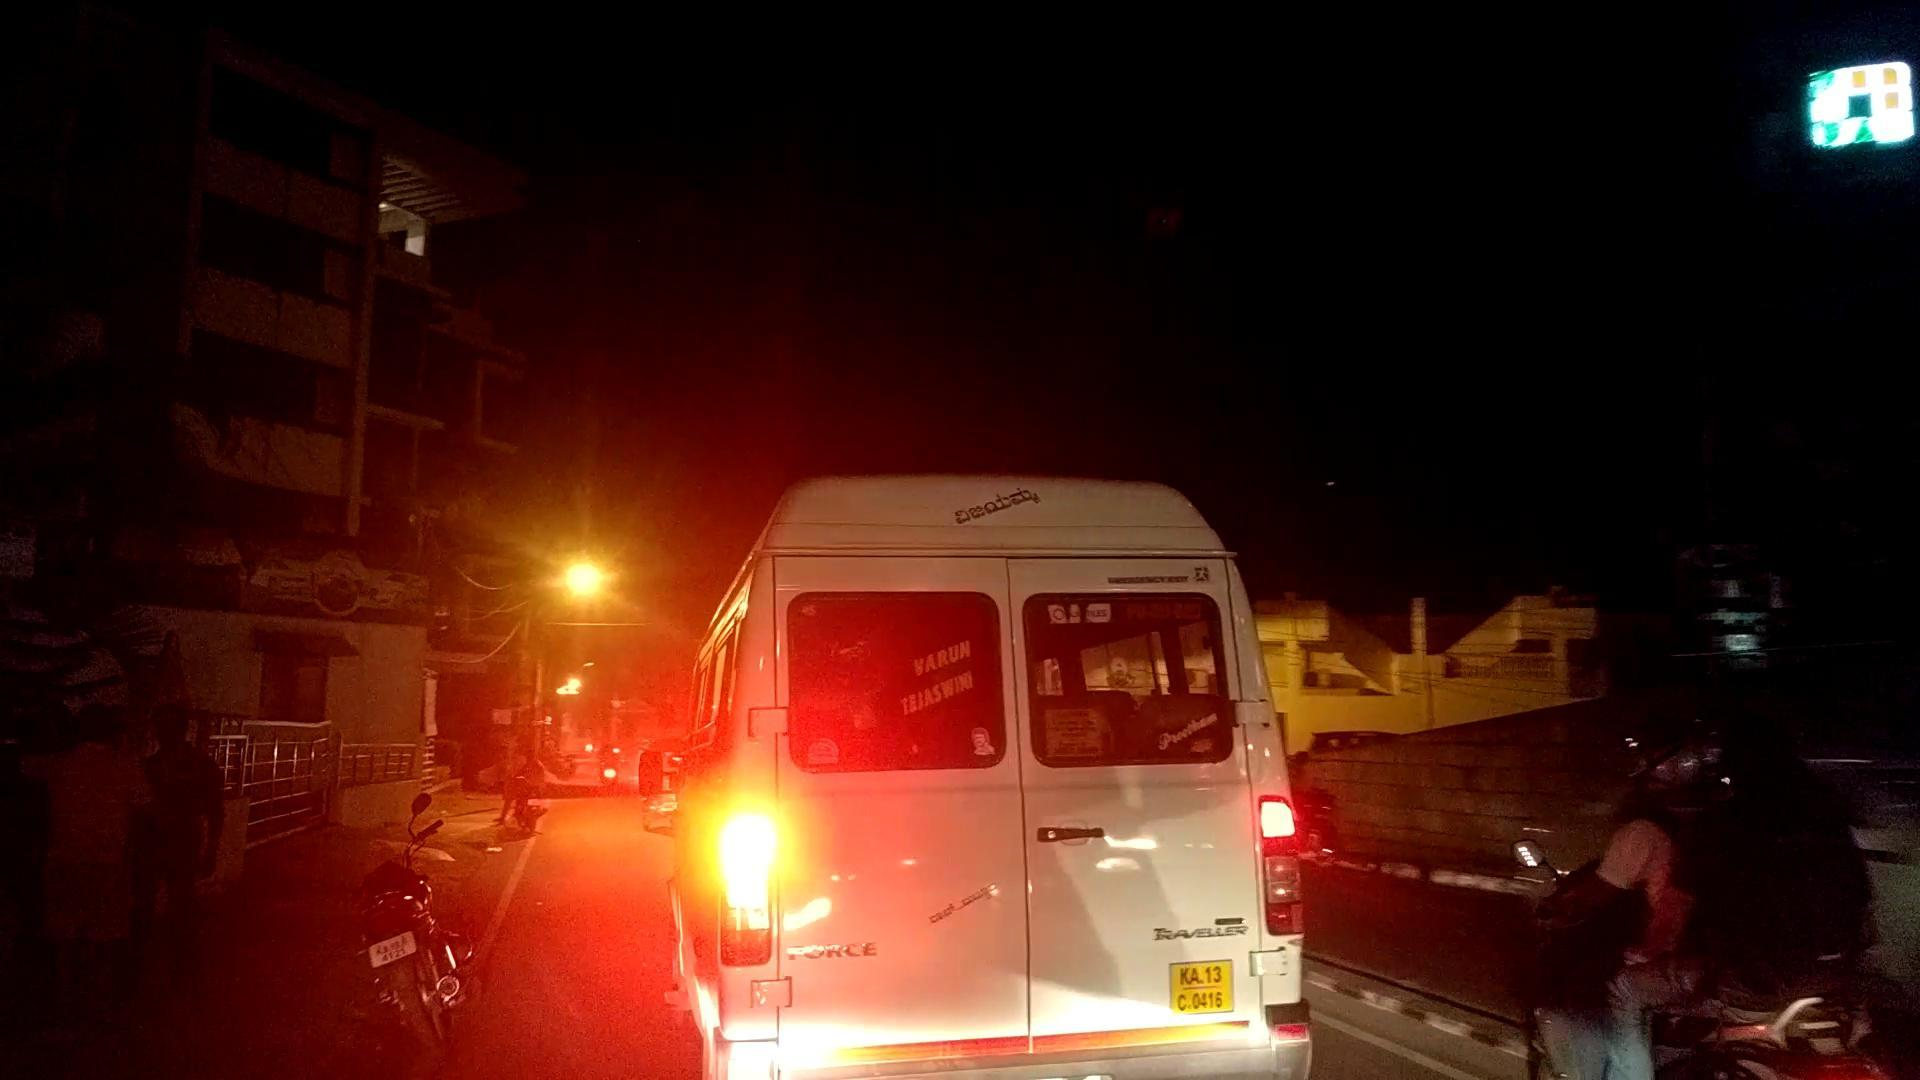on: (430, 411, 679, 764)
